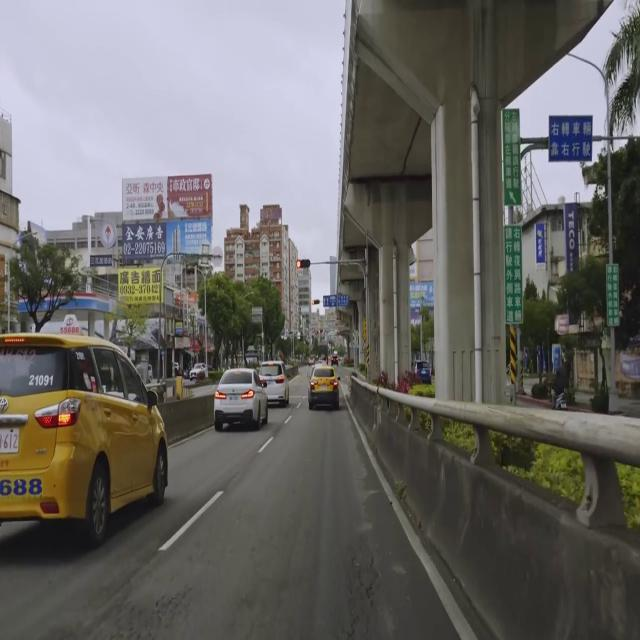red light: (296, 259, 310, 268), (311, 300, 320, 304)
